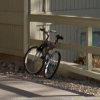Bicycle: (16, 21, 69, 81)
